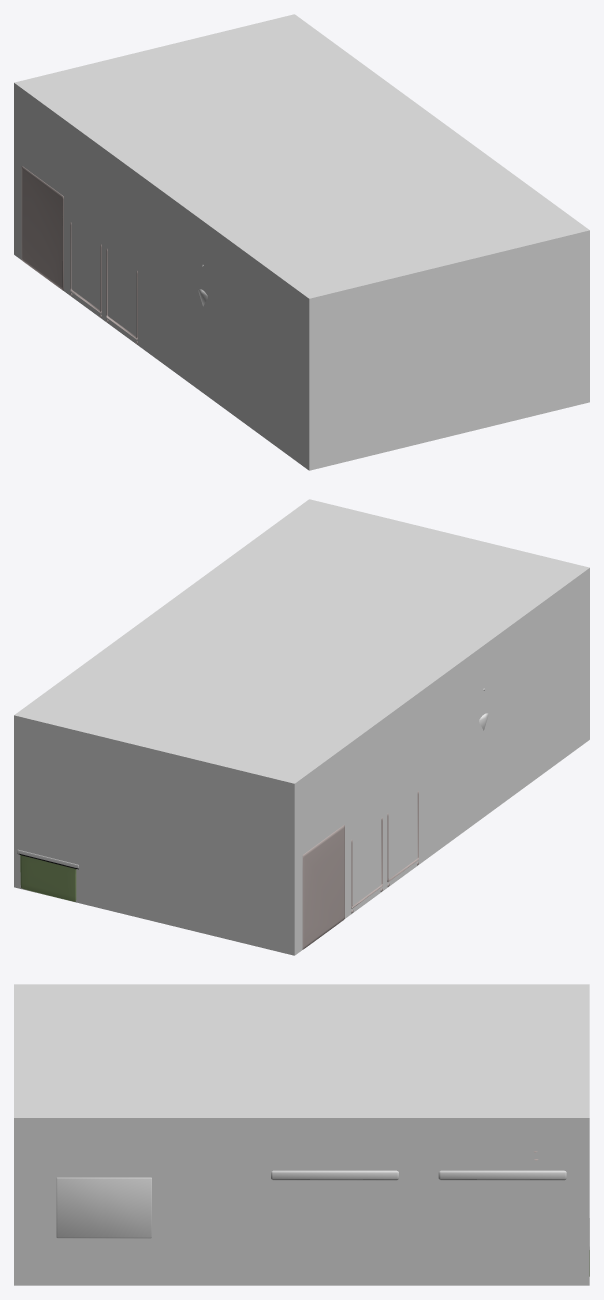
Rendered from MODEL_Bakery.fbx.
3 views of the same model, one above another, from view 1: azimuth 30°, elevation 25°; view 2: azimuth 150°, elevation 25°; view 3: azimuth 270°, elevation 25° (orthographic). The views are drawn at different scales.
Visible parts, largest first — view 1: wall, Oven, KITCHEN; view 2: wall, Oven, Sink and benchtop, KITCHEN; view 3: wall, Window, Shevles.
Part boxes in pixels (left/top/right/bottom): wall: left=14, top=14, right=589, bottom=470; Oven: left=21, top=166, right=63, bottom=290; KITCHEN: left=70, top=222, right=137, bottom=344; wall: left=14, top=499, right=589, bottom=955; Oven: left=302, top=825, right=344, bottom=949; Sink and benchtop: left=17, top=849, right=78, bottom=901; KITCHEN: left=351, top=791, right=418, bottom=913; wall: left=14, top=984, right=589, bottom=1285; Window: left=56, top=1177, right=151, bottom=1238; Shevles: left=271, top=1170, right=566, bottom=1180.
Bounding box in the file's own units: 889 × 517 × 1605.
